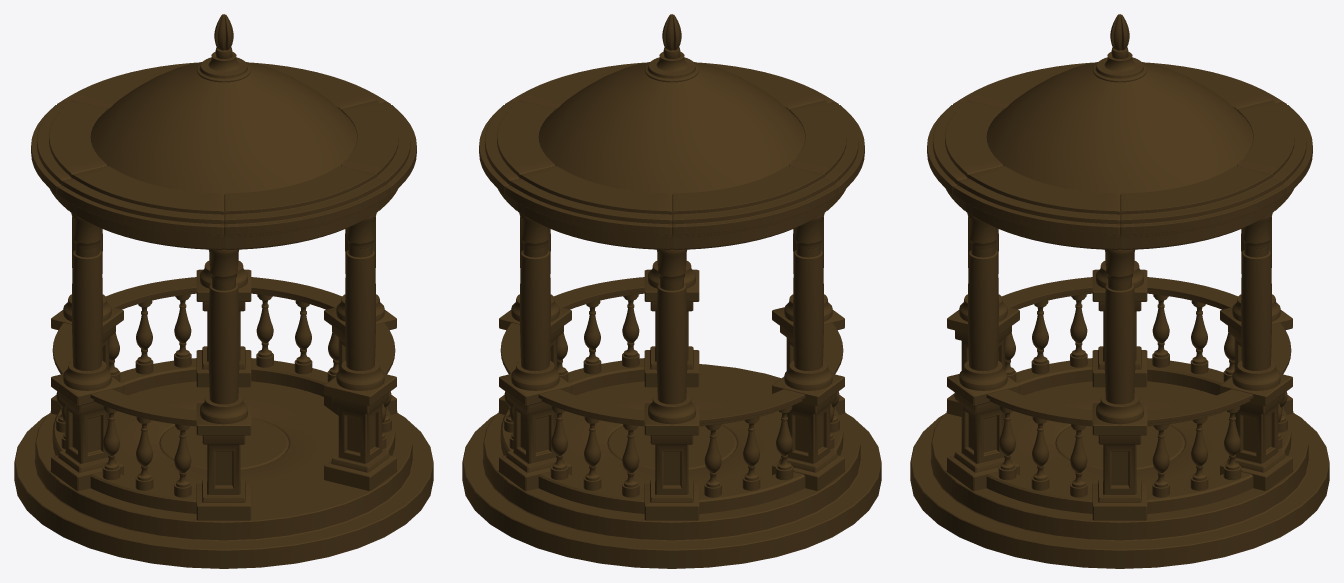
The model's file is Rotunda1_01.obj.
3 renders of one model, left to right at view 1: azimuth 30°, elevation 25°; view 2: azimuth 150°, elevation 25°; view 3: azimuth 270°, elevation 25°, orthographic.
Visible parts, largest first — view 1: Rotunda1_Cylinder; view 2: Rotunda1_Cylinder; view 3: Rotunda1_Cylinder.
Boxes of the visible parts, <box> form: Rotunda1_Cylinder: <box>14,14,433,568</box>; Rotunda1_Cylinder: <box>462,14,881,568</box>; Rotunda1_Cylinder: <box>910,14,1329,568</box>.
Size of the model in its own units: 2 by 2.45 by 2.
